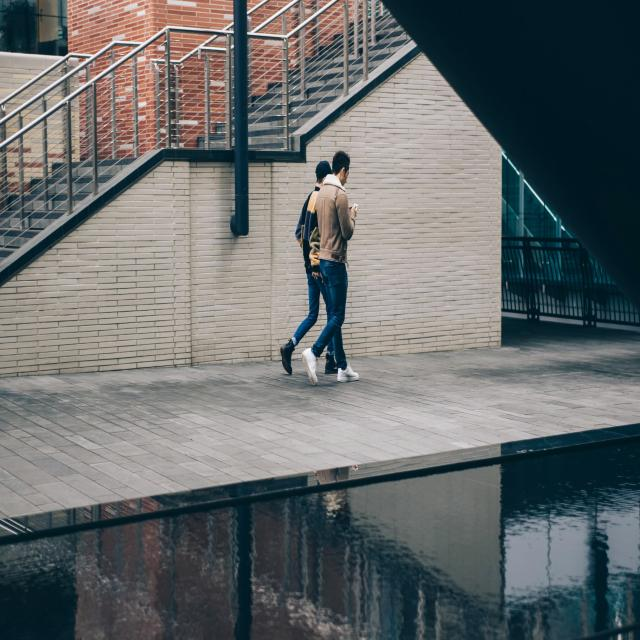adult: (302, 146, 357, 388), (279, 151, 337, 374)
